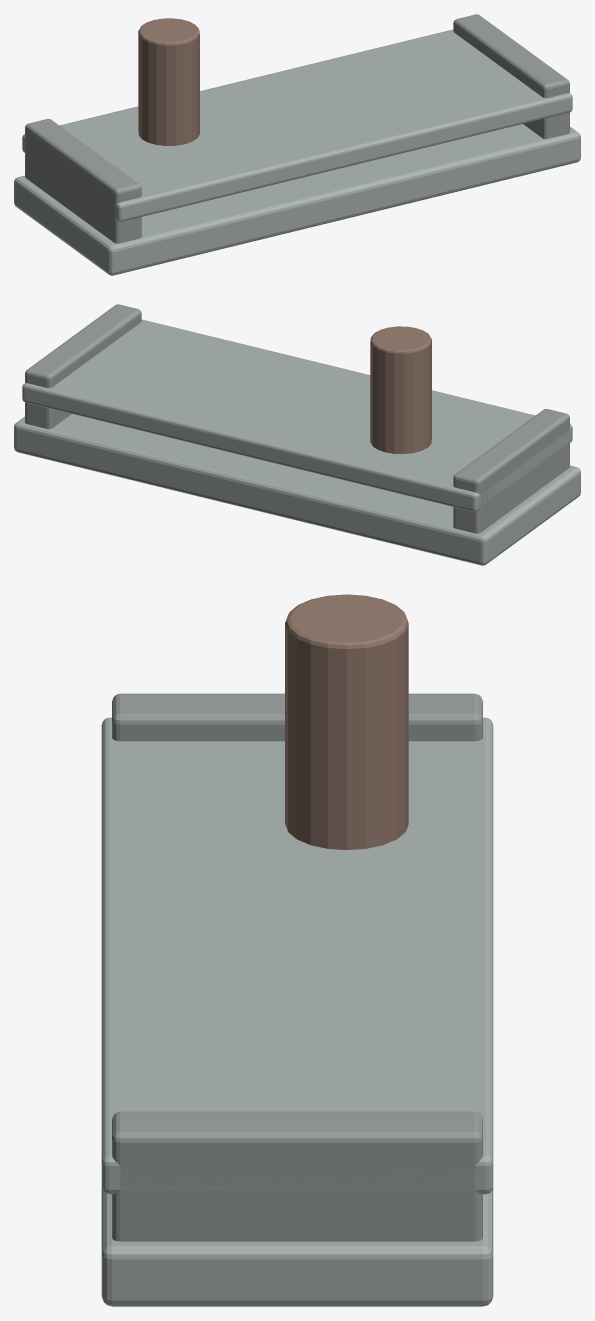
Rendered from SM_CityRoof.fbx.
The picture shows the model from 3 angles, top to bottom: view 1: azimuth 30°, elevation 25°; view 2: azimuth 150°, elevation 25°; view 3: azimuth 270°, elevation 25°; orthographic projection. The views are drawn at different scales.
Visible parts, largest first — view 1: SM_CityRoof; view 2: SM_CityRoof; view 3: SM_CityRoof.
Part boxes in pixels (x1=…): SM_CityRoof: x1=14, y1=14, x2=580, y2=275; SM_CityRoof: x1=14, y1=304, x2=580, y2=565; SM_CityRoof: x1=101, y1=594, x2=493, y2=1306.
Size of the model in its own units: 265 by 95 by 93.
